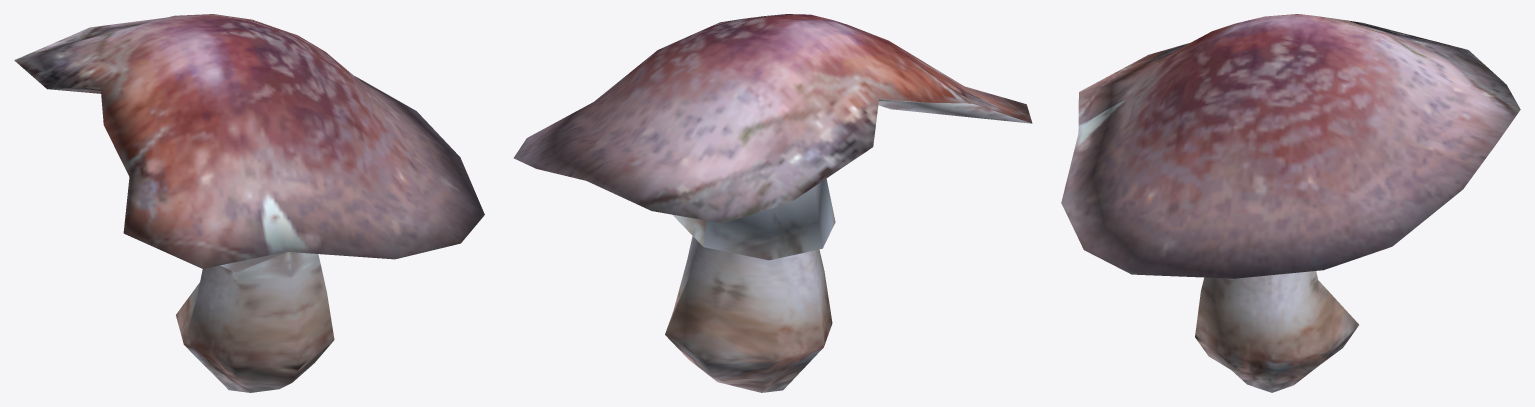
The model's file is SM_TOADSTOOL_09.FBX.
3 renders of one model, left to right at view 1: azimuth 30°, elevation 25°; view 2: azimuth 150°, elevation 25°; view 3: azimuth 270°, elevation 25°, orthographic. The views are drawn at different scales.
Parts seen in each view (by area): view 1: SM_TOADSTOOL_09; view 2: SM_TOADSTOOL_09; view 3: SM_TOADSTOOL_09.
Boxes of the visible parts, x1,y1,x2,y2 form: SM_TOADSTOOL_09: (14,14,484,392); SM_TOADSTOOL_09: (513,14,1032,392); SM_TOADSTOOL_09: (1061,14,1520,392).
Bounding box in the file's own units: 14.29 × 15.6 × 12.53.
